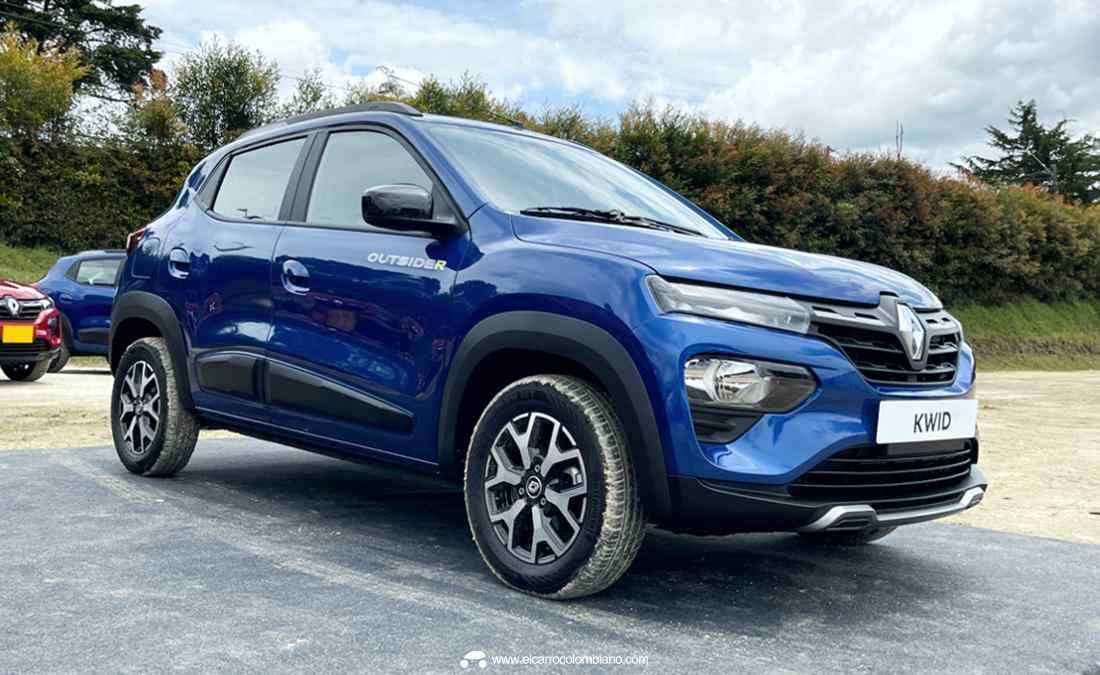Renault: (887, 297, 936, 371), (2, 291, 27, 318)
